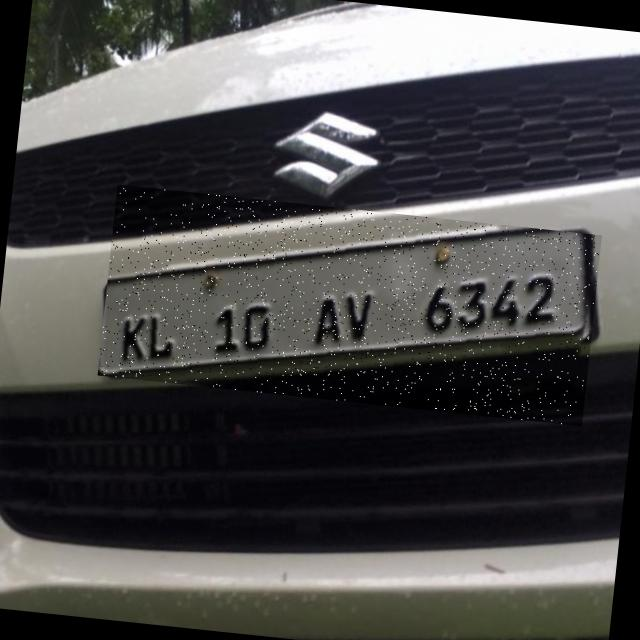Plate: (98, 185, 602, 427)
